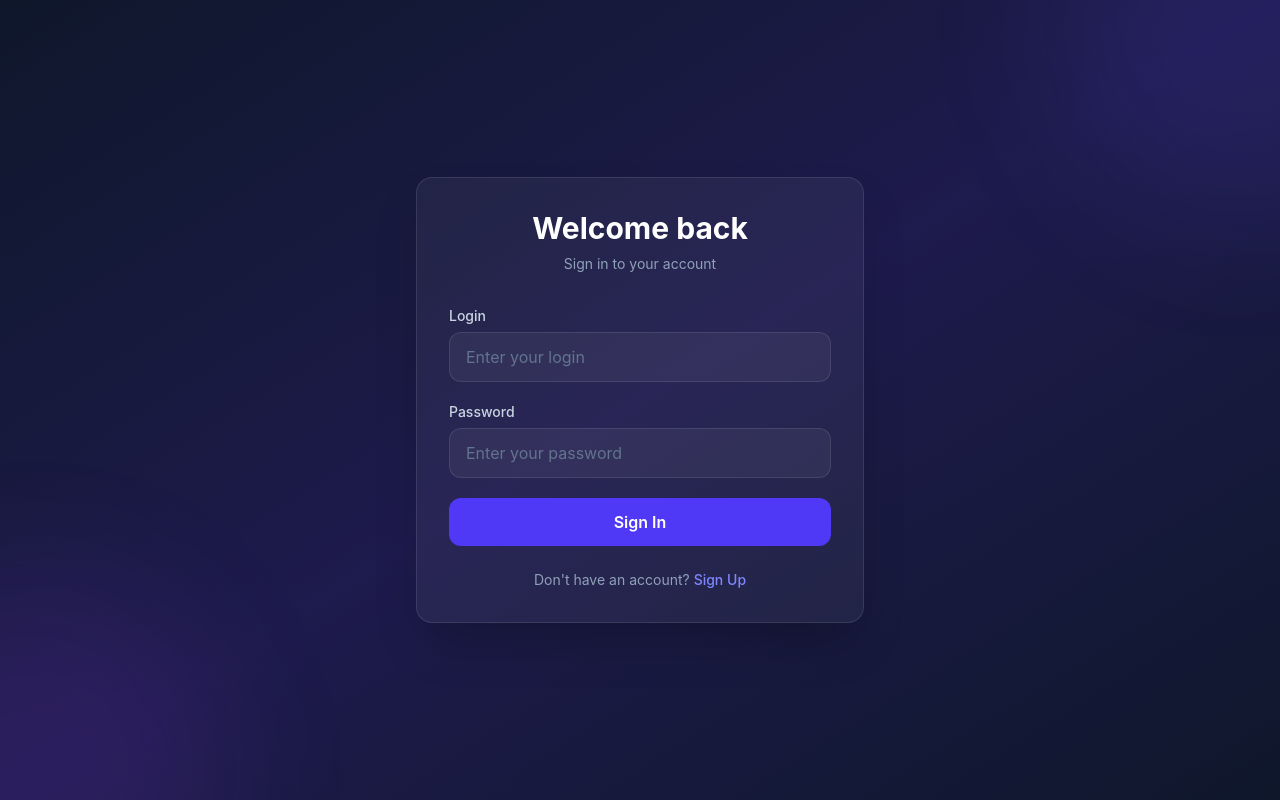
Test: Auth Flow › shows an error when signing in with non-existent user
Step 1. Type "nonexistent_user_xyz" into the field with test id "signin-login" → [640, 357], box [449,332,831,382]
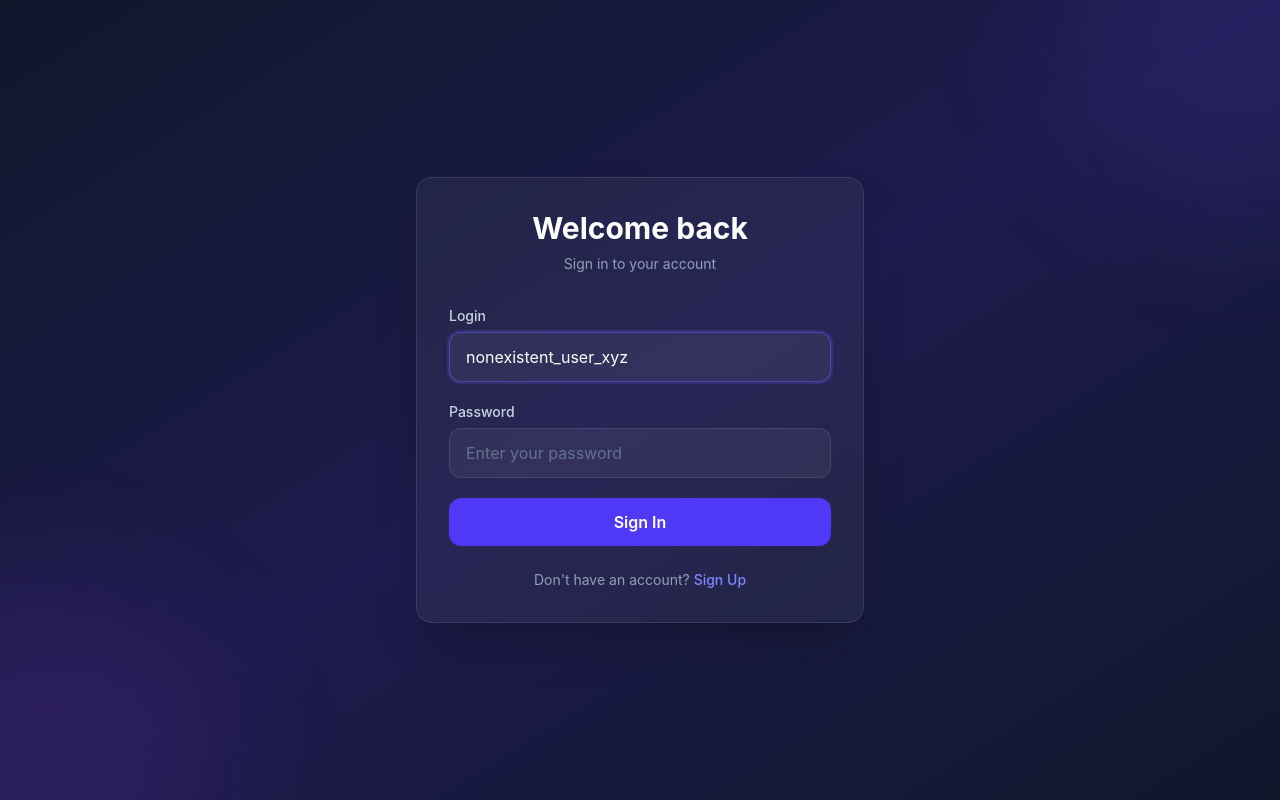
Step 2. Type "wrongpassword" into the password field with test id "signin-password" → [640, 453], box [449,428,831,478]
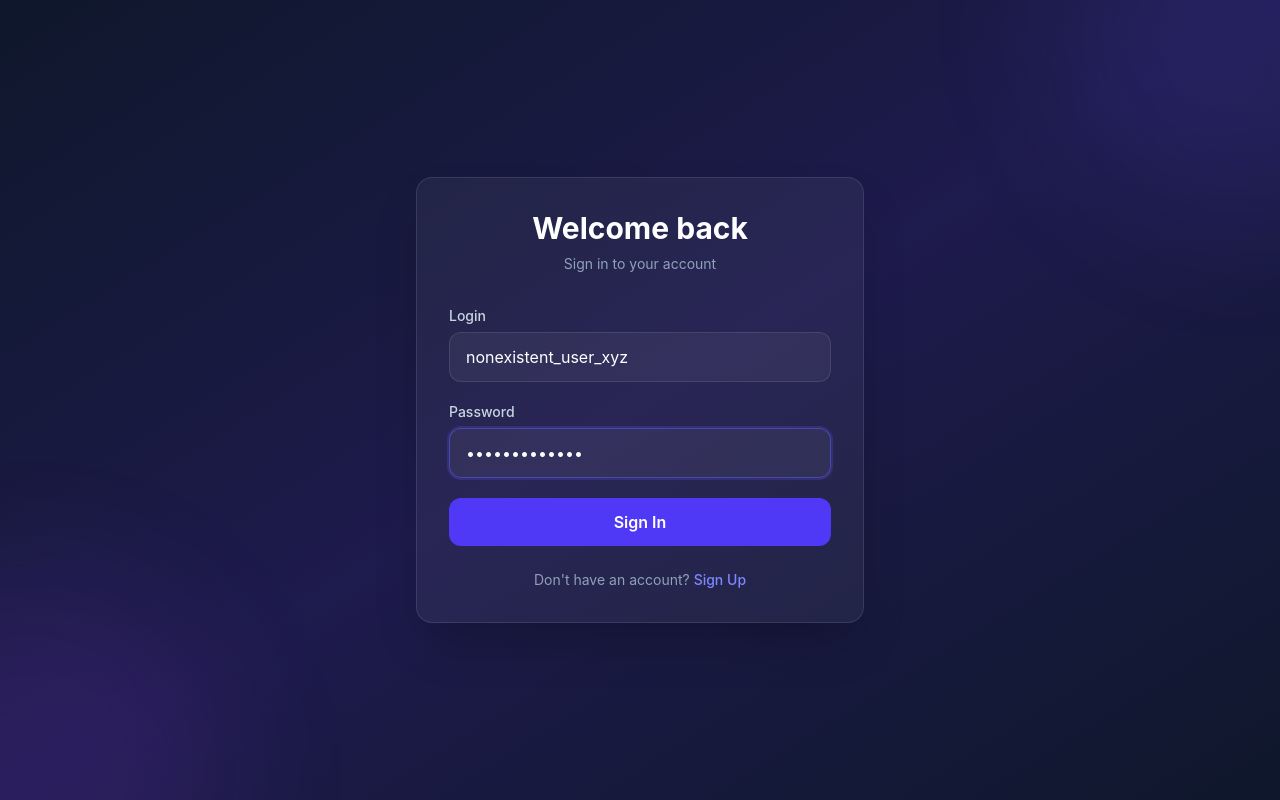
Step 3. Click the button with test id "signin-submit" → [640, 522], box [449,498,831,546]
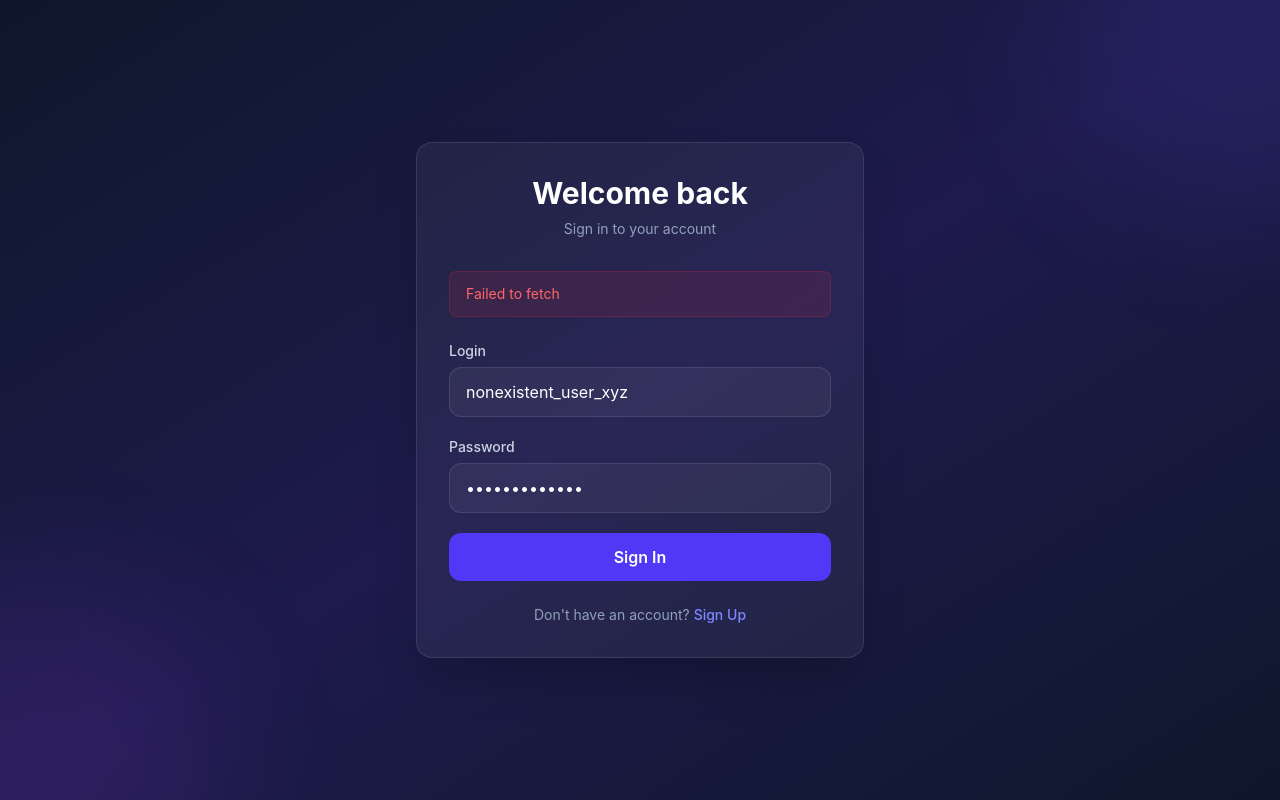
Now the text "Failed to fetch" is shown, box [449,271,831,317]
